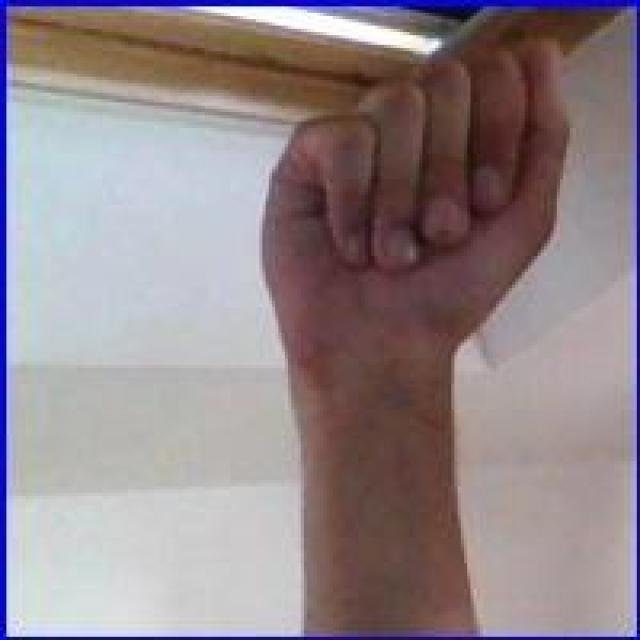A: (251, 27, 581, 402)
